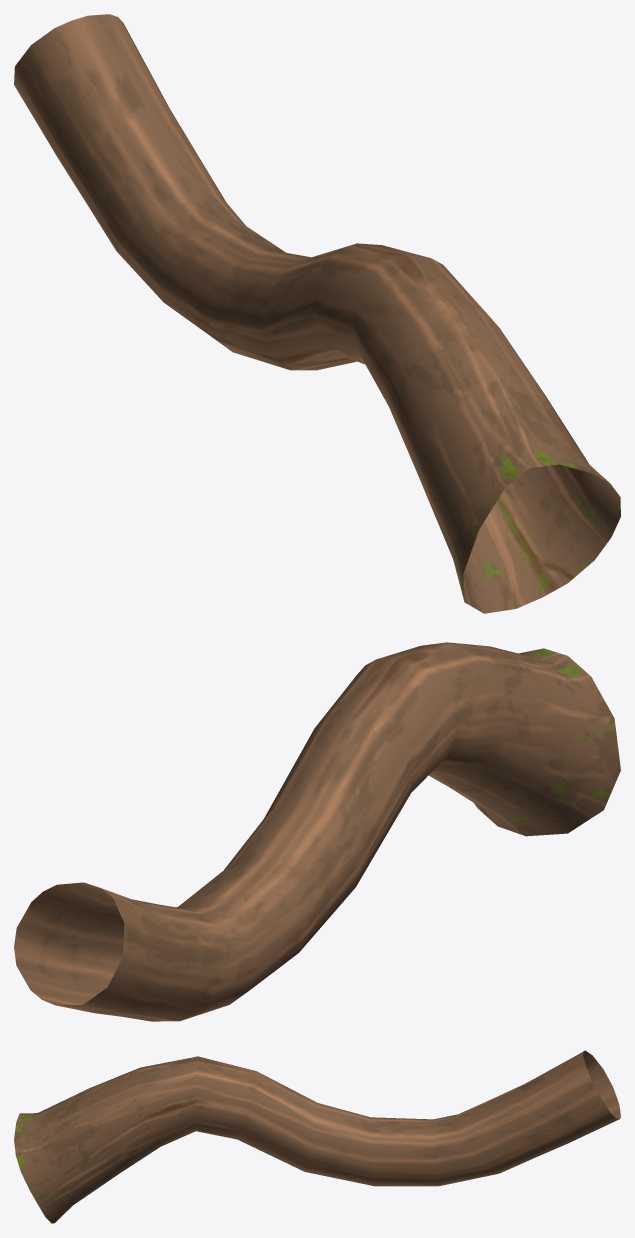
File: Bold_Tree_Bend01.fbx
The picture shows the model from 3 angles, top to bottom: view 1: azimuth 30°, elevation 25°; view 2: azimuth 150°, elevation 25°; view 3: azimuth 270°, elevation 25°; orthographic projection. The views are drawn at different scales.
Parts seen in each view (by area): view 1: Bold_Tree_Bend01; view 2: Bold_Tree_Bend01; view 3: Bold_Tree_Bend01.
Part boxes in pixels (left/top/right/bottom): Bold_Tree_Bend01: left=14, top=14, right=620, bottom=613; Bold_Tree_Bend01: left=14, top=642, right=620, bottom=1021; Bold_Tree_Bend01: left=14, top=1050, right=620, bottom=1223.
Size of the model in its own units: 1692 by 2745 by 9189.
1 material, 1 textured.
